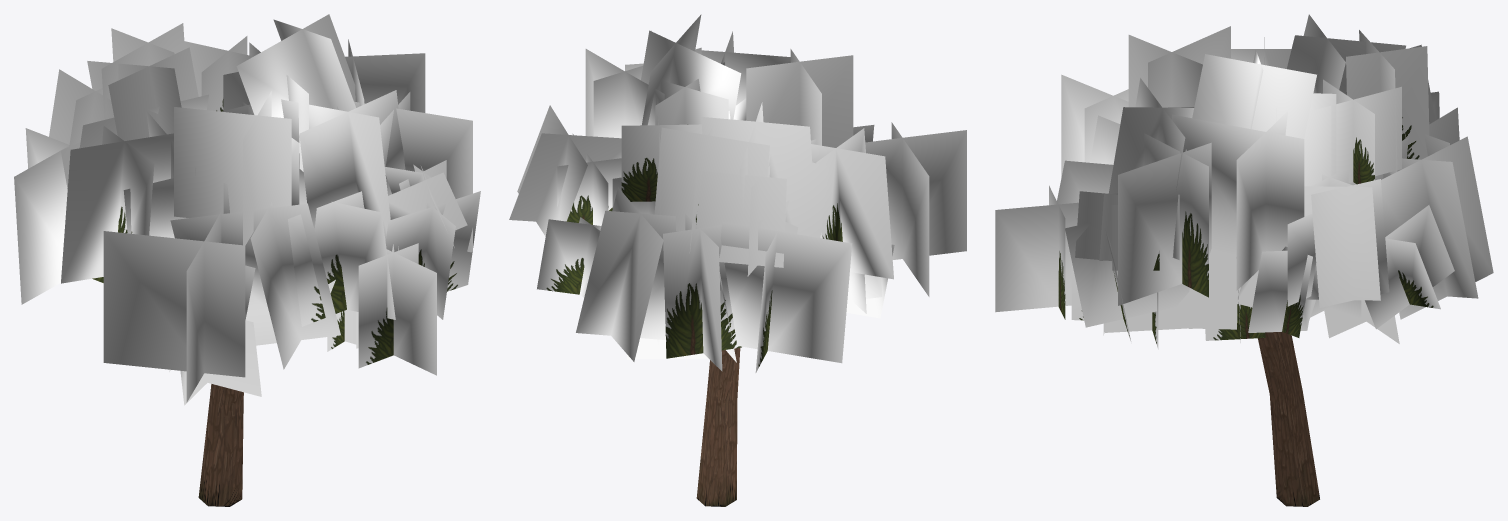
File: blendedTree1.fbx
3 renders of one model, left to right at view 1: azimuth 30°, elevation 25°; view 2: azimuth 150°, elevation 25°; view 3: azimuth 270°, elevation 25°, orthographic. The views are drawn at different scales.
Visible parts, largest first — view 1: Cylinder; view 2: Cylinder; view 3: Cylinder.
Part boxes in pixels (x1,y1,x2,y2): Cylinder: [14, 14, 480, 506]; Cylinder: [509, 14, 966, 506]; Cylinder: [995, 14, 1493, 506].
Bounding box in the file's own units: 608 × 725 × 689.
